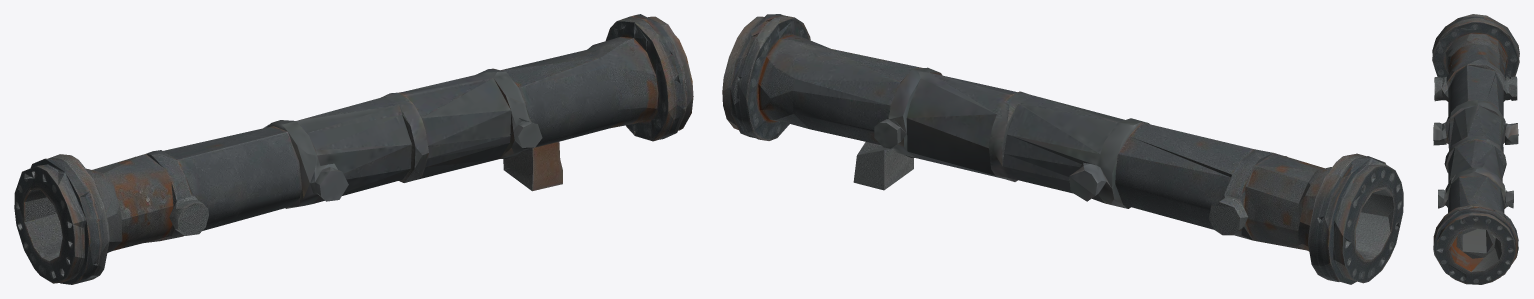
The model's file is pipe_section.glb.
3 views of the same model, side by side, from view 1: azimuth 30°, elevation 25°; view 2: azimuth 150°, elevation 25°; view 3: azimuth 270°, elevation 25° (orthographic). The views are drawn at different scales.
Bounding box in the file's own units: 6 × 1.2 × 1.11.
Materials: 1 (1 with a texture image).
